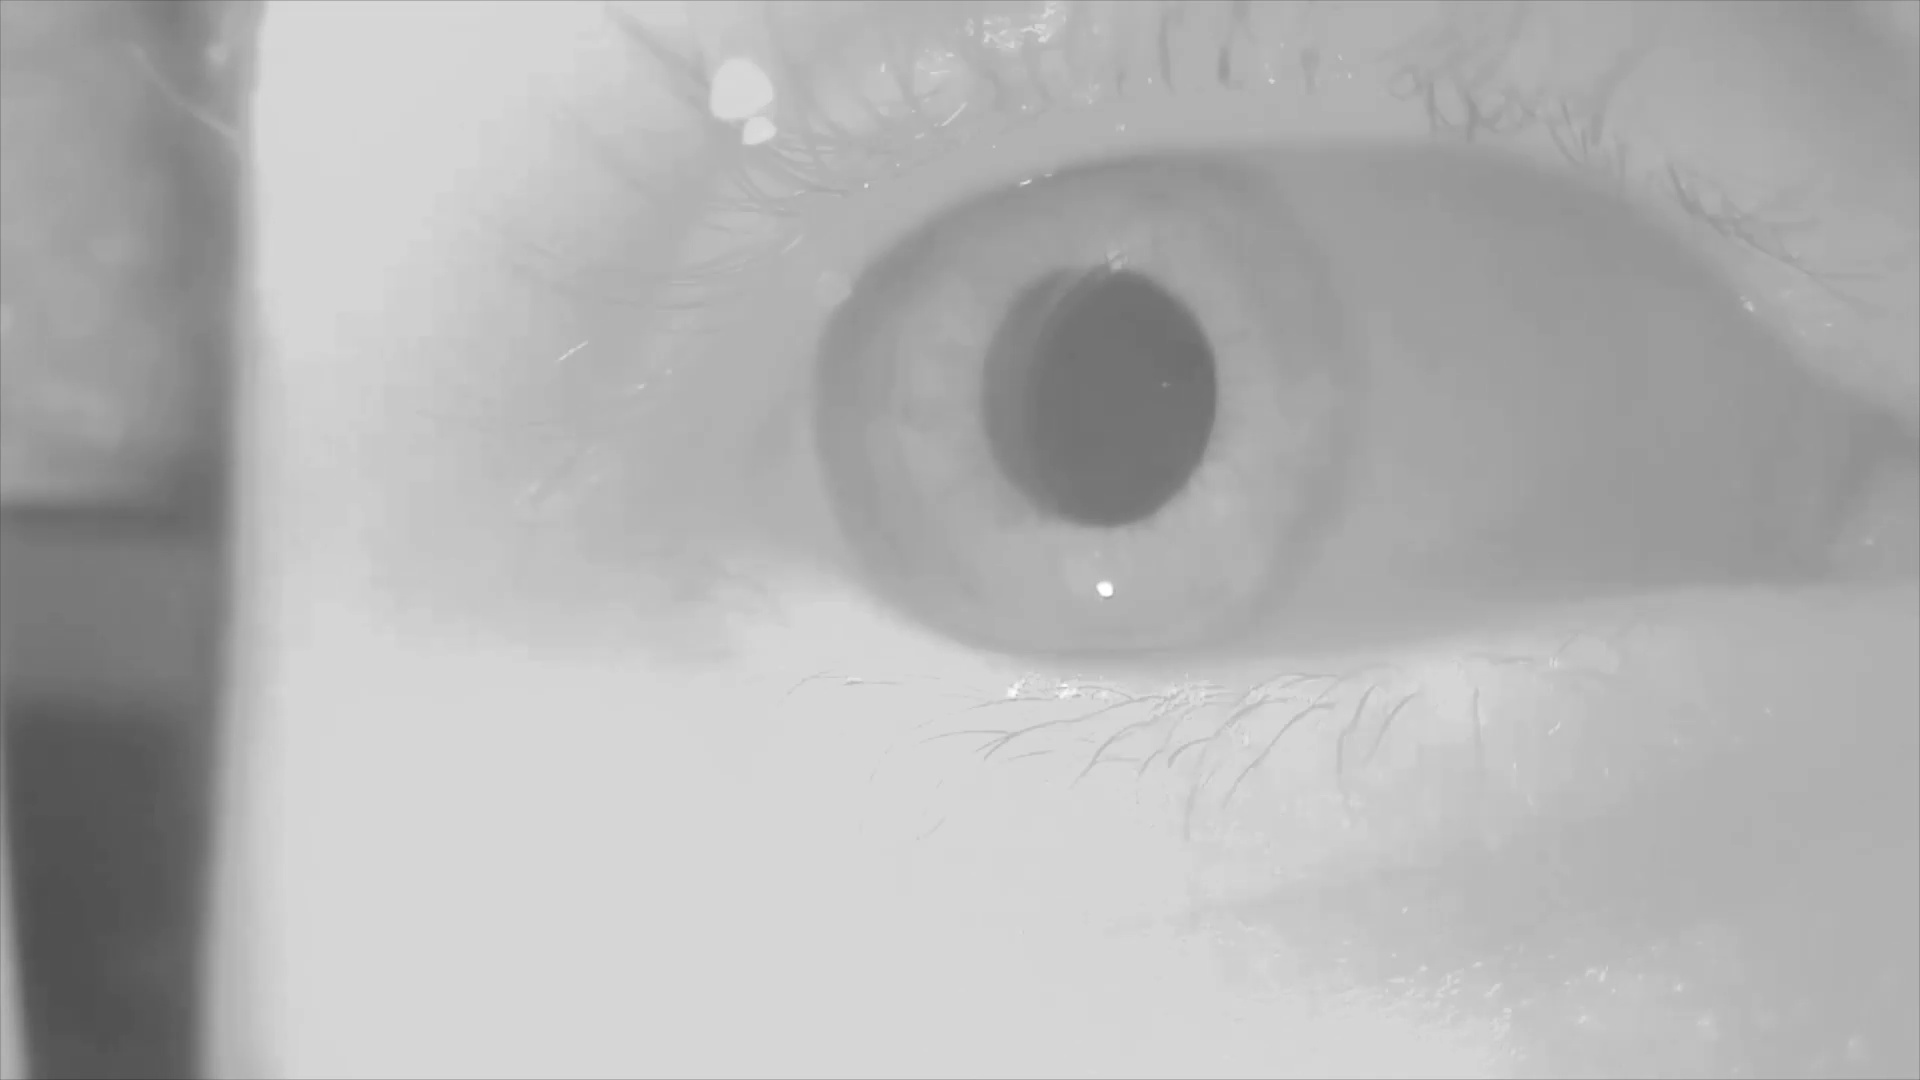pupil: (977, 267, 1220, 533)
